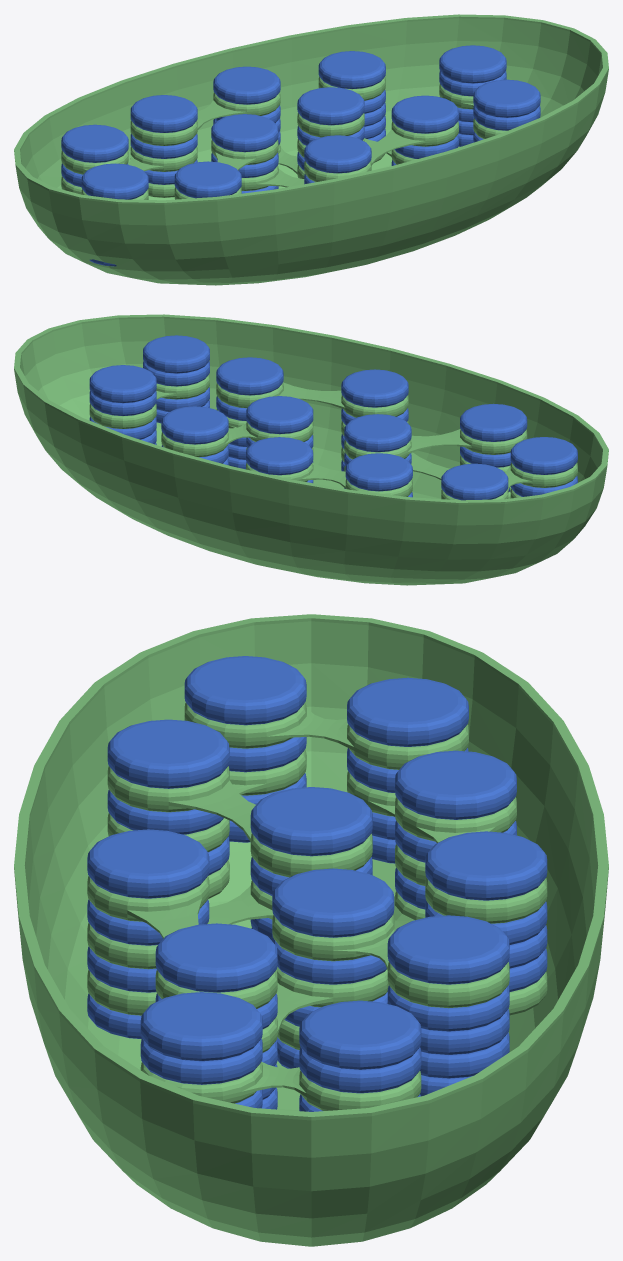
Rendered from chloroplast (1).glb.
3 renders of one model, top to bottom at view 1: azimuth 30°, elevation 25°; view 2: azimuth 150°, elevation 25°; view 3: azimuth 270°, elevation 25°, orthographic. The views are drawn at different scales.
Parts seen in each view (by area): view 1: Box002_12 - Default_0, Cylinder064_12 - Default_0, Cylinder073_06 - Default_0, Cylinder129_06 - Default_0, Cylinder108_06 - Default_0, Cylinder171_06 - Default_0, Cylinder150_06 - Default_0, Cylinder115_06 - Default_0, Cylinder164_06 - Default_0, Cylinder080_06 - Default_0, Cylinder122_06 - Default_0, Cylinder136_06 - Default_0 (+8 smaller); view 2: Box002_12 - Default_0, Cylinder064_12 - Default_0, Cylinder122_06 - Default_0, Cylinder171_06 - Default_0, Cylinder129_06 - Default_0, Cylinder080_06 - Default_0, Cylinder150_06 - Default_0, Cylinder136_06 - Default_0, Cylinder108_06 - Default_0, Cylinder115_06 - Default_0, Cylinder069_06 - Default_0, Cylinder164_06 - Default_0 (+9 smaller); view 3: Box002_12 - Default_0, Cylinder064_12 - Default_0, Cylinder150_06 - Default_0, Cylinder122_06 - Default_0, Cylinder129_06 - Default_0, Cylinder094_06 - Default_0, Cylinder136_06 - Default_0, Cylinder115_06 - Default_0, Cylinder069_06 - Default_0, Cylinder108_06 - Default_0, Cylinder164_06 - Default_0, Cylinder171_06 - Default_0 (+19 smaller).
Boxes of the visible parts, x1,y1,x2,y2 form: Box002_12 - Default_0: [14, 14, 608, 285]; Cylinder064_12 - Default_0: [61, 77, 507, 199]; Cylinder073_06 - Default_0: [61, 124, 128, 162]; Cylinder129_06 - Default_0: [304, 135, 371, 173]; Cylinder108_06 - Default_0: [211, 114, 278, 152]; Cylinder171_06 - Default_0: [439, 45, 506, 83]; Cylinder150_06 - Default_0: [391, 95, 458, 133]; Cylinder115_06 - Default_0: [213, 66, 280, 104]; Cylinder164_06 - Default_0: [473, 79, 540, 117]; Cylinder080_06 - Default_0: [130, 95, 197, 132]; Cylinder122_06 - Default_0: [297, 87, 364, 125]; Cylinder136_06 - Default_0: [318, 51, 385, 89]; Box002_12 - Default_0: [14, 314, 608, 585]; Cylinder064_12 - Default_0: [89, 374, 577, 500]; Cylinder122_06 - Default_0: [246, 396, 313, 434]; Cylinder171_06 - Default_0: [89, 365, 156, 403]; Cylinder129_06 - Default_0: [341, 369, 408, 407]; Cylinder080_06 - Default_0: [345, 453, 412, 491]; Cylinder150_06 - Default_0: [216, 357, 283, 395]; Cylinder136_06 - Default_0: [161, 406, 228, 444]; Cylinder108_06 - Default_0: [344, 414, 411, 452]; Cylinder115_06 - Default_0: [246, 437, 313, 475]; Cylinder069_06 - Default_0: [510, 437, 577, 474]; Cylinder164_06 - Default_0: [143, 335, 209, 373]; Box002_12 - Default_0: [14, 614, 608, 1246]; Cylinder064_12 - Default_0: [87, 702, 547, 1110]; Cylinder150_06 - Default_0: [155, 923, 277, 992]; Cylinder122_06 - Default_0: [272, 868, 394, 937]; Cylinder129_06 - Default_0: [87, 829, 209, 898]; Cylinder094_06 - Default_0: [107, 719, 229, 788]; Cylinder136_06 - Default_0: [387, 915, 509, 984]; Cylinder115_06 - Default_0: [425, 831, 547, 900]; Cylinder069_06 - Default_0: [184, 656, 306, 725]; Cylinder108_06 - Default_0: [250, 787, 372, 856]; Cylinder164_06 - Default_0: [140, 992, 262, 1061]; Cylinder171_06 - Default_0: [299, 1000, 421, 1069].
Bounding box in the file's own units: 2 × 0.4738 × 1.
